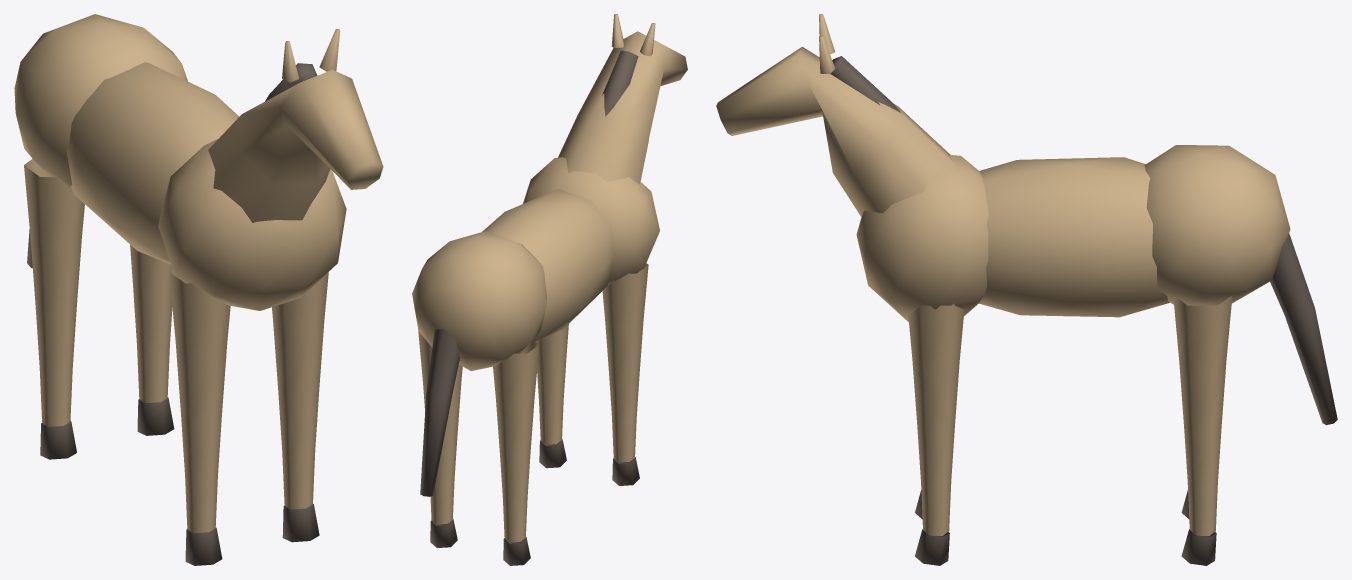
Rendered from horse_3.glb.
The picture shows the model from 3 angles, left to right: view 1: azimuth 30°, elevation 25°; view 2: azimuth 150°, elevation 25°; view 3: azimuth 270°, elevation 25°; orthographic projection. The views are drawn at different scales.
Parts seen in each view (by area): view 1: horse_3.glb; view 2: horse_3.glb; view 3: horse_3.glb.
Boxes of the visible parts, bbox=[...] form: horse_3.glb: bbox=[14, 14, 383, 565]; horse_3.glb: bbox=[412, 14, 687, 565]; horse_3.glb: bbox=[716, 14, 1337, 565].
Bounding box in the file's own units: 0.5678 × 1.87 × 2.05.
